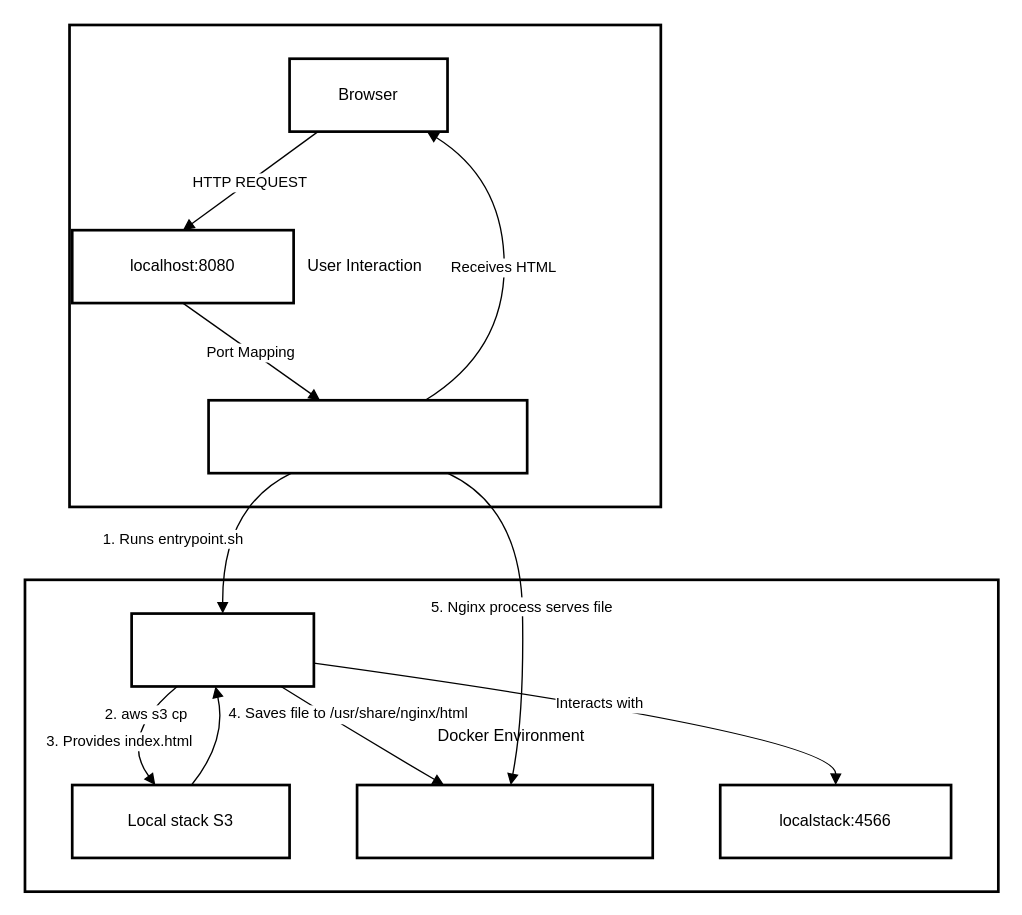
Some shapes in this 1022 by 915 pixel diagram are drawn without their labels. Each missing label, with the centre of its shape:
"Container's Filesystem" goes at pixel 504 821.
"Entrypoint" goes at pixel 222 649.
"Nginx Container: Port 80" goes at pixel 367 436.
